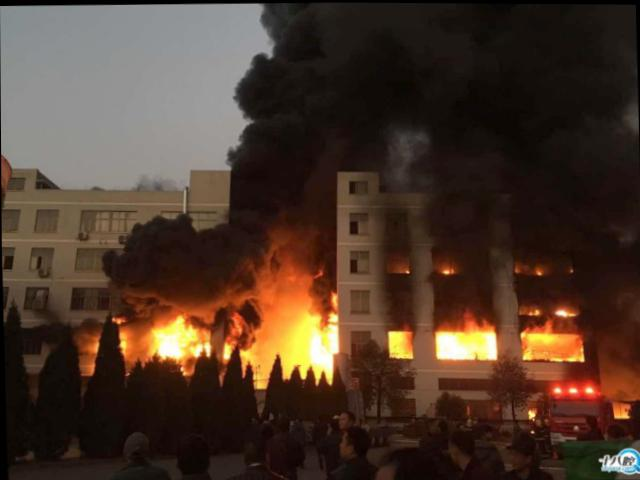fire: (516, 257, 584, 365), (139, 310, 256, 366), (283, 304, 342, 372), (432, 324, 500, 363), (387, 324, 413, 360), (435, 257, 459, 278)
